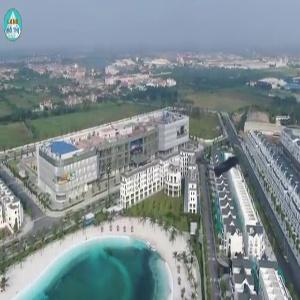drone: (186, 121, 264, 199)
